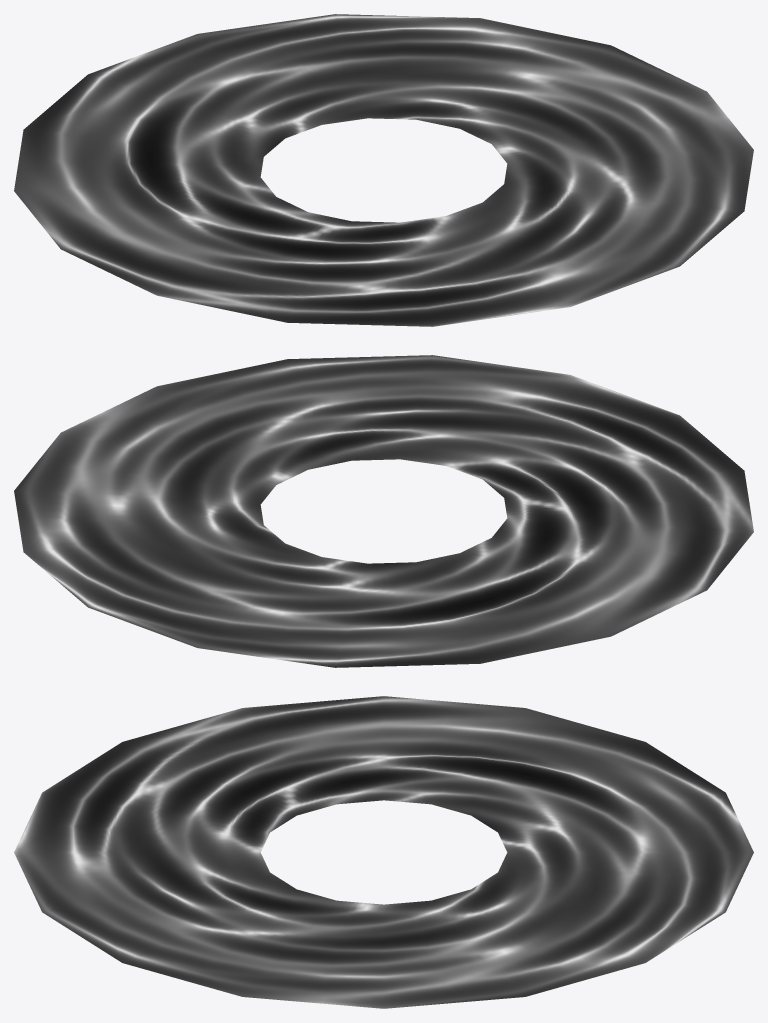
Rendered from eff_Disc03.fbx.
3 views of the same model, one above another, from view 1: azimuth 30°, elevation 25°; view 2: azimuth 150°, elevation 25°; view 3: azimuth 270°, elevation 25° (orthographic).
Visible parts, largest first — view 1: eff_Disc03_msh; view 2: eff_Disc03_msh; view 3: eff_Disc03_msh.
Part boxes in pixels (left/top/right/bottom): eff_Disc03_msh: left=14, top=14, right=753, bottom=326; eff_Disc03_msh: left=14, top=355, right=753, bottom=667; eff_Disc03_msh: left=14, top=696, right=753, bottom=1008.
Bounding box in the file's own units: 9 × 0 × 9.
